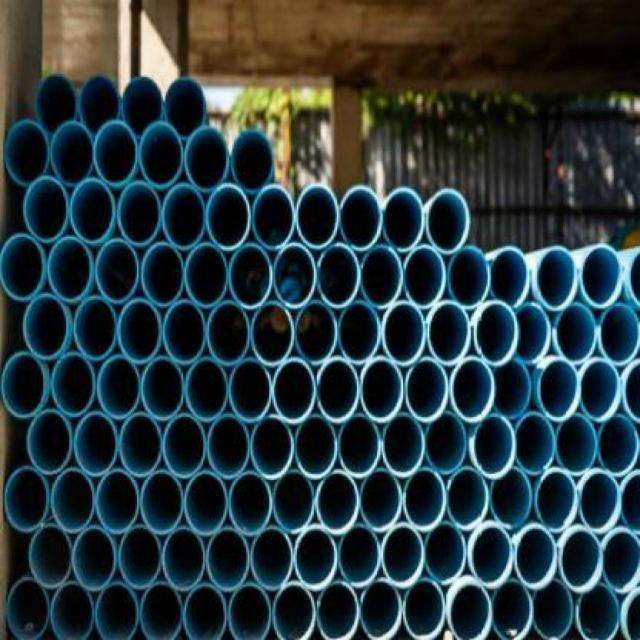pipe: (24, 176, 71, 244), (22, 293, 69, 360), (4, 120, 51, 186), (185, 125, 230, 193), (69, 178, 114, 246), (206, 183, 251, 251), (228, 242, 273, 310), (1, 352, 46, 420), (360, 356, 405, 424), (139, 121, 184, 189), (450, 357, 495, 424), (74, 411, 119, 478), (5, 466, 50, 533), (94, 119, 138, 187), (426, 189, 471, 255), (96, 238, 140, 305), (116, 182, 161, 247), (162, 184, 207, 249), (272, 243, 317, 308), (162, 299, 207, 364), (474, 301, 519, 366), (427, 302, 472, 367), (381, 302, 426, 367), (51, 351, 96, 416), (96, 355, 141, 420), (141, 356, 186, 421), (27, 409, 72, 474), (293, 414, 338, 479), (140, 470, 185, 535), (316, 470, 361, 535), (228, 471, 273, 536), (469, 524, 514, 589), (252, 184, 295, 252), (317, 242, 360, 310), (186, 356, 229, 424), (47, 236, 91, 302), (317, 357, 360, 424), (273, 357, 316, 424), (251, 414, 294, 481), (382, 522, 425, 589), (515, 524, 558, 591), (0, 234, 44, 299), (231, 128, 274, 194), (297, 185, 340, 250), (382, 188, 425, 253), (141, 242, 184, 307), (186, 243, 229, 308), (447, 245, 490, 310), (74, 296, 117, 361), (118, 299, 161, 364), (295, 300, 338, 365), (208, 301, 251, 366), (250, 302, 293, 367), (406, 357, 449, 422), (230, 358, 273, 423), (382, 412, 425, 477), (119, 413, 162, 478), (339, 413, 382, 478), (207, 414, 250, 479), (473, 414, 516, 479), (403, 467, 446, 532), (360, 468, 403, 533), (536, 469, 579, 534), (273, 469, 316, 534), (96, 469, 139, 534), (185, 472, 228, 537), (338, 523, 381, 588), (294, 525, 337, 590), (73, 527, 116, 592), (207, 528, 250, 593), (560, 528, 603, 593), (163, 75, 206, 140), (50, 121, 93, 186), (162, 527, 207, 589), (359, 577, 404, 639), (315, 580, 362, 639), (340, 186, 382, 252), (360, 246, 402, 311), (338, 300, 380, 365), (538, 356, 580, 421), (579, 358, 621, 423), (164, 415, 206, 480), (447, 466, 489, 531), (579, 469, 621, 534), (425, 521, 467, 586), (30, 525, 72, 590), (403, 246, 446, 309), (534, 247, 577, 310), (52, 470, 95, 533), (250, 527, 293, 590), (122, 76, 165, 139), (553, 302, 596, 364), (403, 577, 446, 639), (7, 578, 50, 640), (448, 580, 493, 639), (581, 245, 623, 308), (119, 526, 161, 589), (35, 73, 77, 136), (425, 412, 467, 474), (555, 414, 597, 476), (597, 415, 639, 477), (490, 467, 532, 529), (491, 577, 533, 639), (531, 577, 573, 639), (599, 301, 639, 366), (272, 582, 317, 639), (51, 582, 96, 639), (78, 74, 120, 135), (515, 412, 555, 475), (602, 526, 639, 594), (492, 358, 532, 420), (576, 584, 621, 639), (182, 584, 227, 639), (140, 582, 183, 639), (96, 582, 139, 639), (228, 582, 271, 639), (489, 248, 529, 307), (515, 302, 552, 365), (619, 469, 639, 536)
